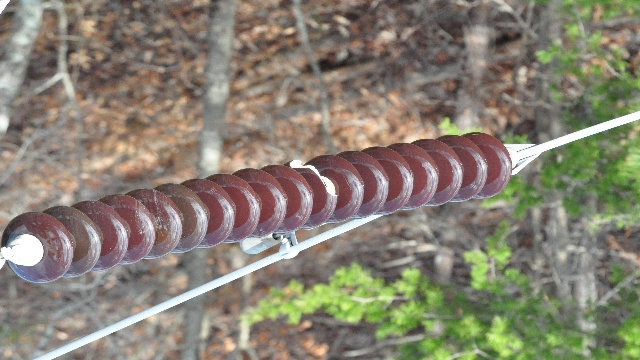broken_local: (290, 157, 340, 198)
insulator_unspecified: (6, 133, 512, 282)
